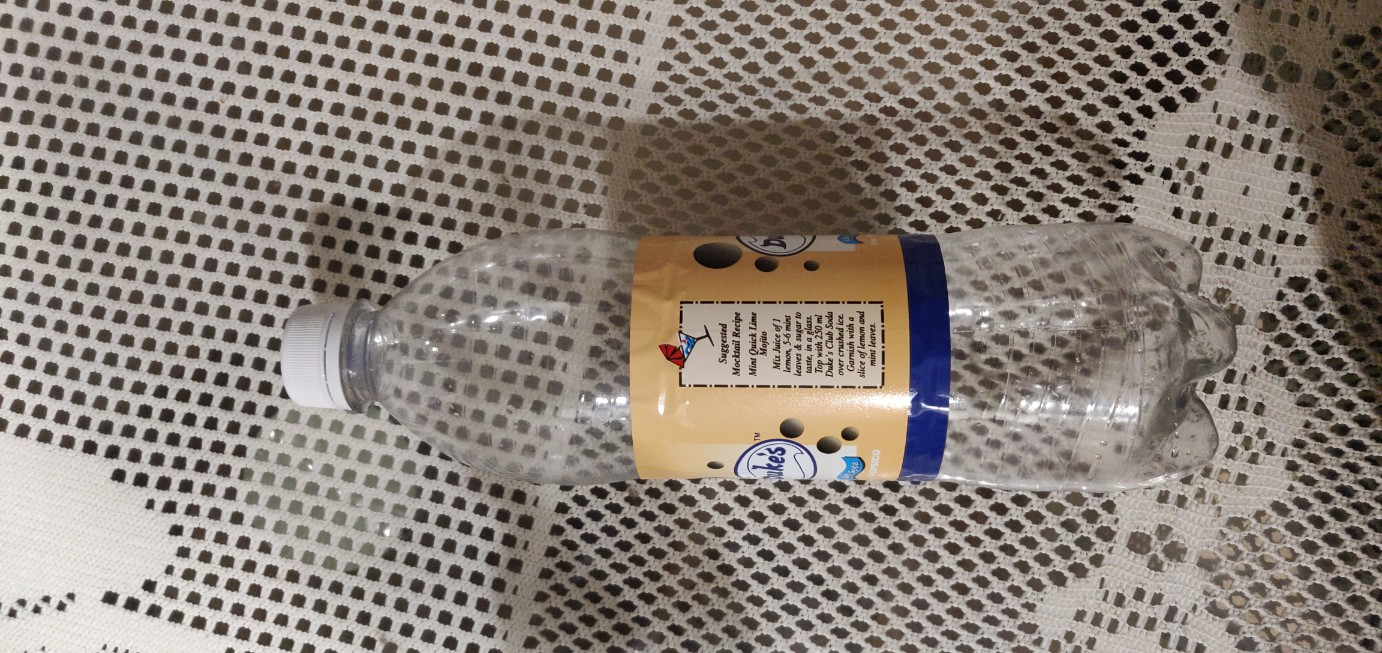Electronics: (258, 205, 1259, 537)
